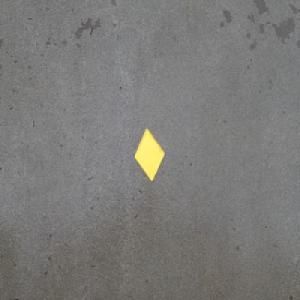PlasticPart: (134, 126, 165, 182)
